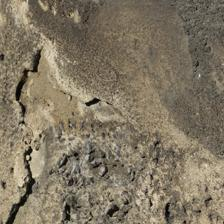Crack: (47, 44, 149, 140), (8, 45, 48, 222)
